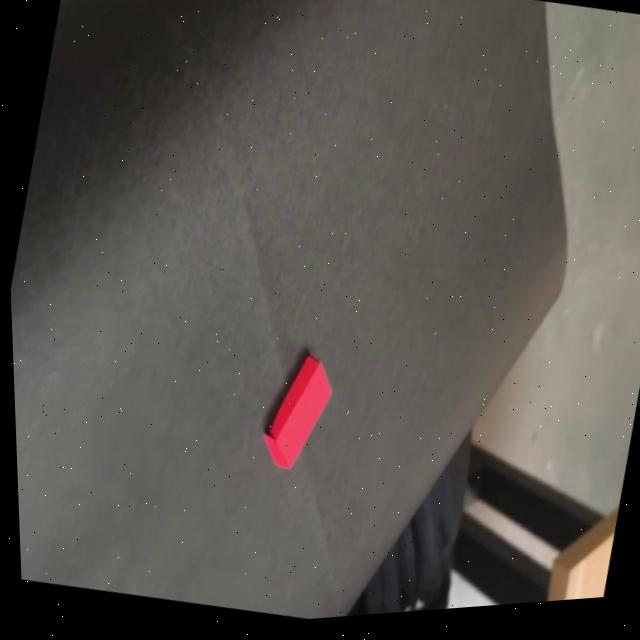red block: (254, 342, 344, 476)
